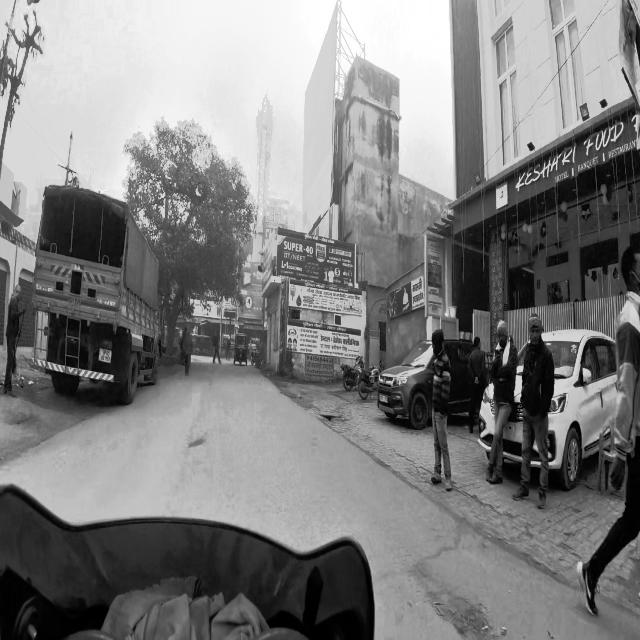Car: (474, 314, 626, 486)
HCV: (31, 174, 167, 417)
